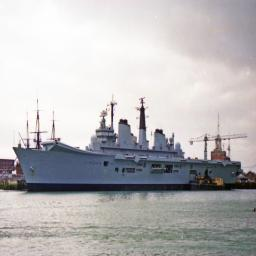Portanaves: (13, 96, 245, 194)
